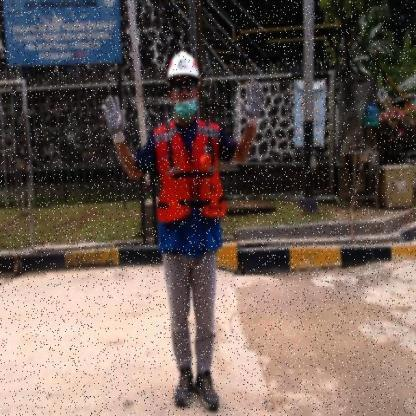boots: (194, 370, 220, 413), (173, 367, 194, 410)
gloves: (238, 76, 266, 128), (101, 96, 128, 146)
goggles: (172, 79, 196, 93)
helmet: (164, 51, 202, 86)
mask: (173, 98, 197, 122)
vest: (158, 152, 226, 220)
